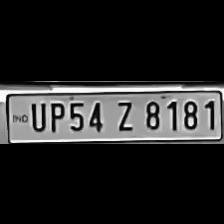1: (163, 96, 179, 130), (202, 96, 218, 130)
4: (86, 97, 106, 131)
5: (66, 97, 86, 131)
8: (140, 96, 162, 130), (178, 96, 200, 130)
P: (46, 98, 64, 132)
U: (27, 98, 46, 132)
Z: (110, 97, 136, 131)
